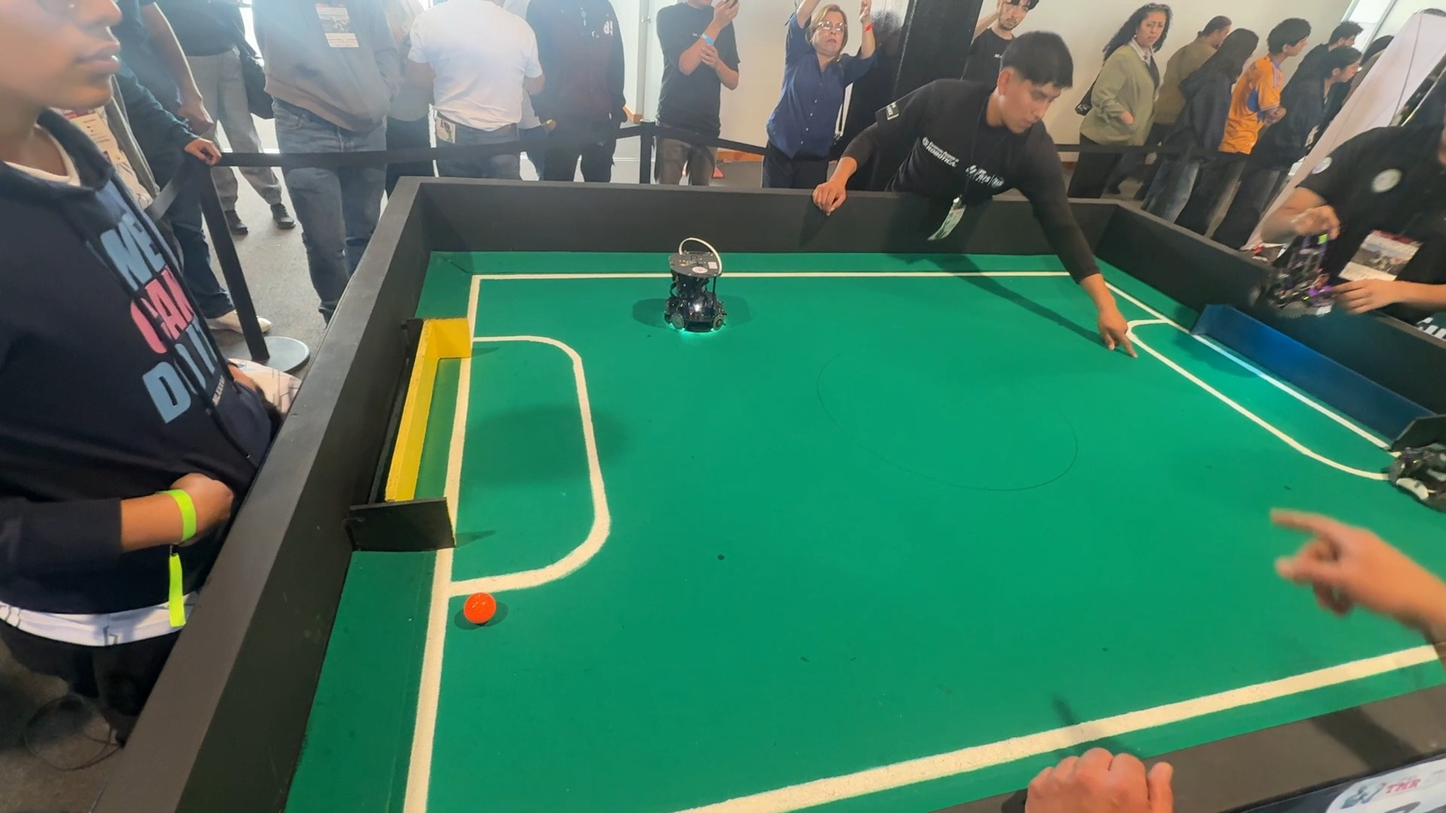Robot: (638, 235, 745, 351)
pelota: (456, 591, 508, 633)
